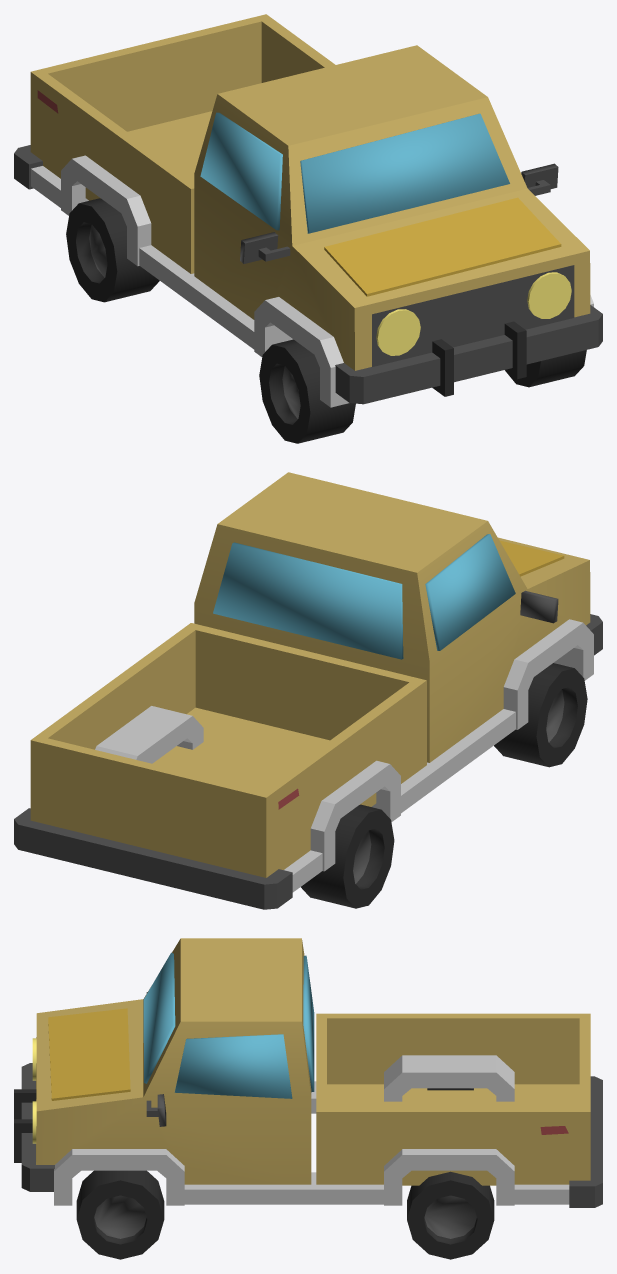
The model's file is Pickup.fbx.
3 renders of one model, top to bottom at view 1: azimuth 30°, elevation 25°; view 2: azimuth 150°, elevation 25°; view 3: azimuth 270°, elevation 25°, orthographic. The views are drawn at different scales.
Parts seen in each view (by area): view 1: Pickup, Polygon_2, Polygon, Объект_Цилиндр; view 2: Pickup, Polygon_2, Polygon; view 3: Pickup, Polygon_2, Polygon.
Boxes of the visible parts, x1=… form: Pickup: x1=14, y1=14, x2=602, y2=443; Polygon_2: x1=200, y1=112, x2=509, y2=233; Polygon: x1=324, y1=197, x2=561, y2=296; Объект_Цилиндр: x1=376, y1=272, x2=571, y2=355; Pickup: x1=14, y1=472, x2=602, y2=909; Polygon_2: x1=213, y1=534, x2=515, y2=659; Polygon: x1=499, y1=540, x2=564, y2=576; Pickup: x1=14, y1=938, x2=602, y2=1259; Polygon_2: x1=143, y1=952, x2=314, y2=1098; Polygon: x1=48, y1=1008, x2=130, y2=1100.
Bounding box in the file's own units: 245 × 193 × 465.
